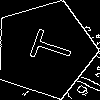T: (20, 24, 76, 69)
